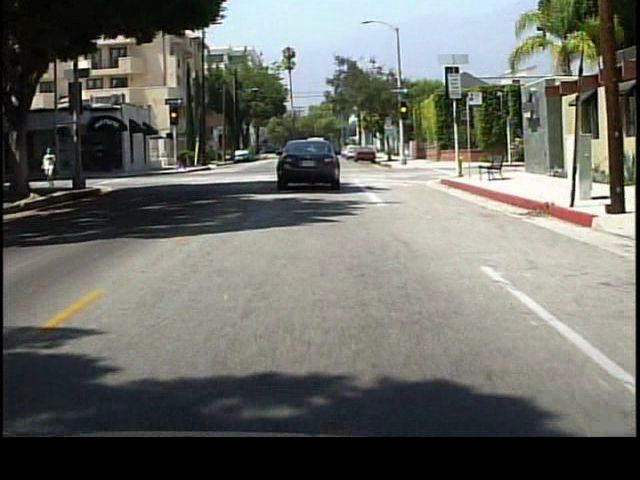person: (45, 145, 64, 190)
